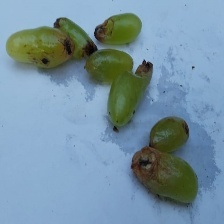grapes: (21, 48, 193, 192)
